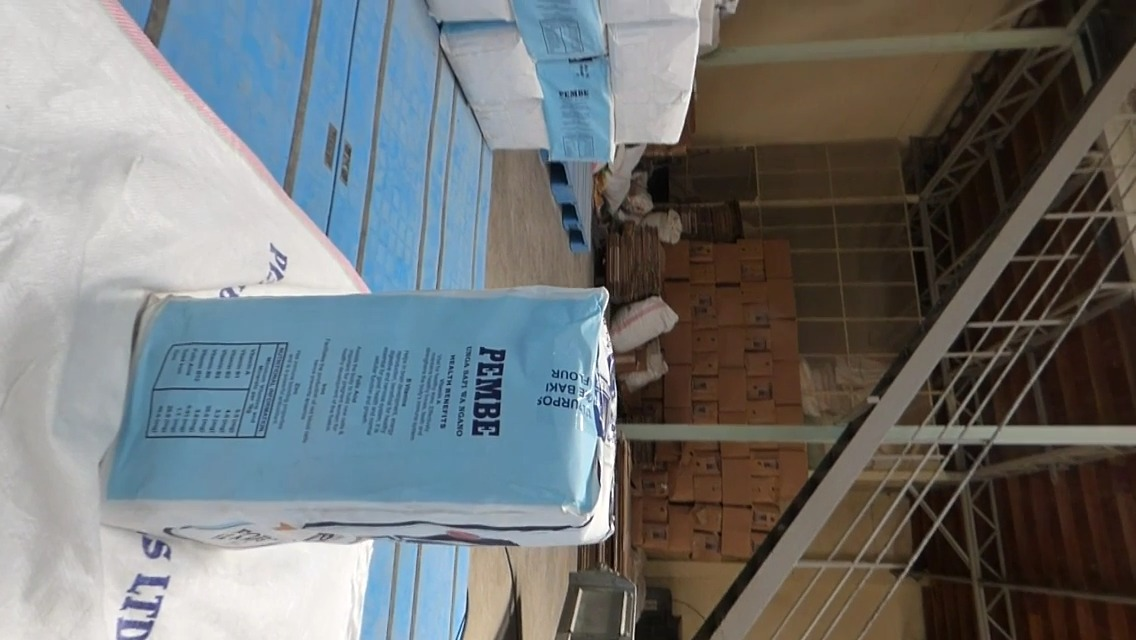wheat_flour_blue_label: (110, 293, 614, 543)
